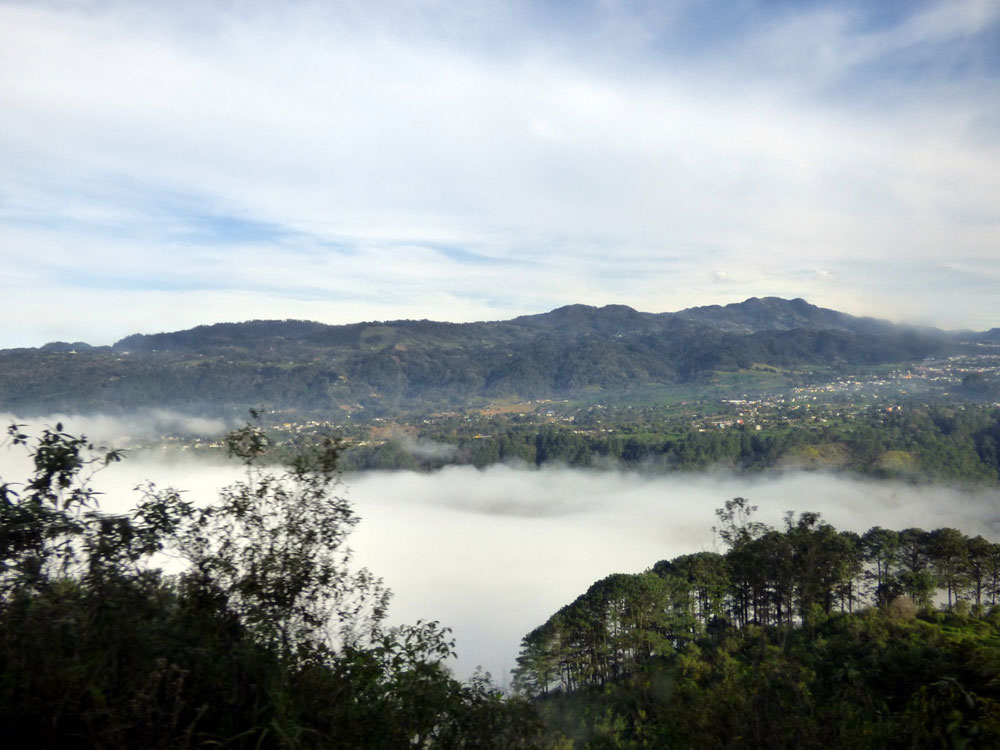Stratus: (13, 8, 1000, 273), (46, 453, 1000, 625)
